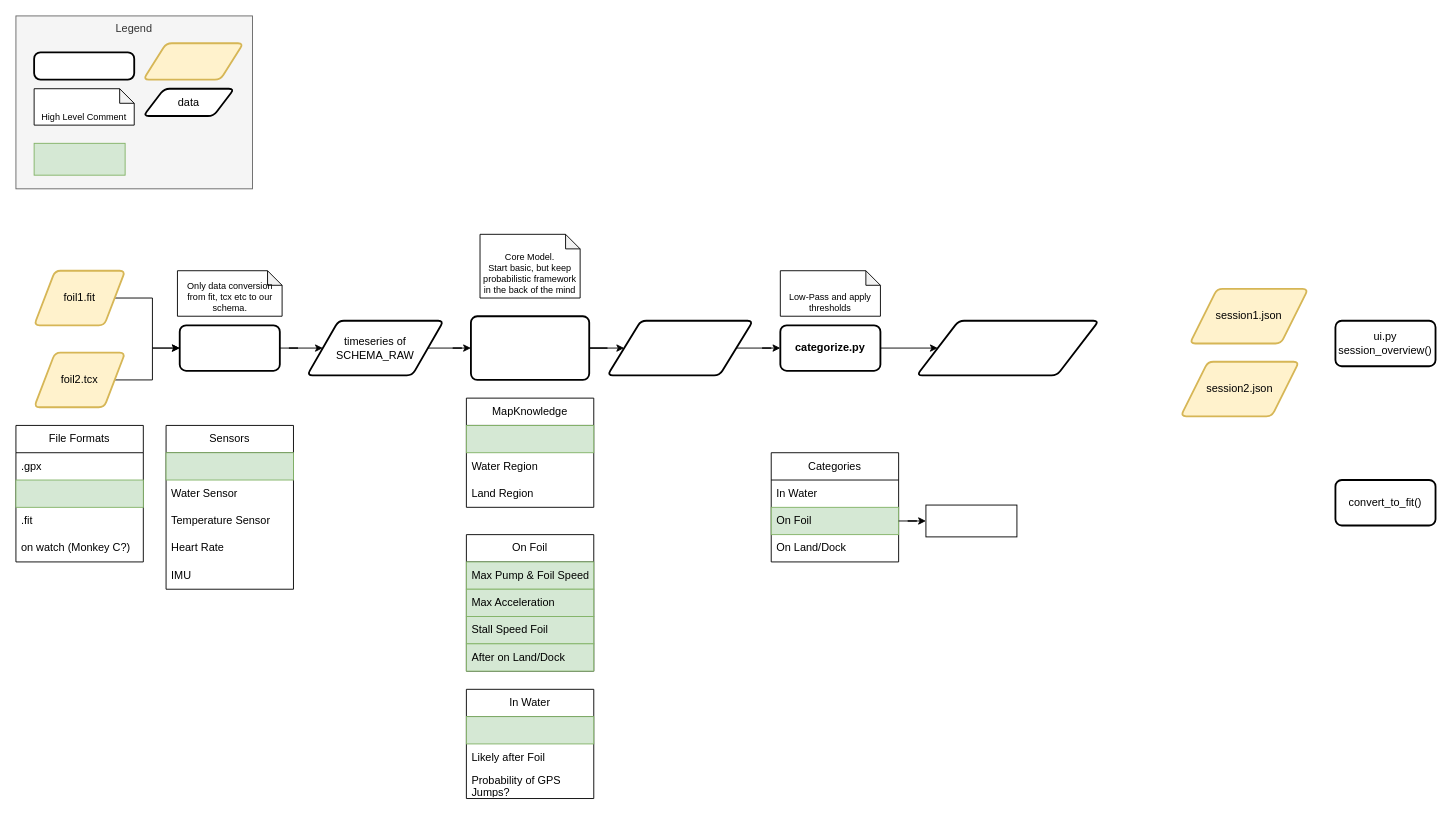
This 1452x814 diagram has some shape labels left out. Here are the shapes that lost their labels. From the top down, the centre of each, then its label:
the point at 84,65: module
the point at 193,61: persistent data
the point at 79,158: Scope of v1
the point at 229,347: parse.py
the point at 530,347: refine.py reject_outliers() smooth_gps_jumps()
the point at 679,347: timeseries of SCHEMA_REFINED
the point at 1007,347: timeseries of SCHEMA_CLASSIFIED
the point at 529,439: Start Locations
the point at 229,466: GPS
the point at 79,493: .tcx
the point at 971,520: Start , Pump, Surf, Fall
the point at 529,730: Max Swim Speed
